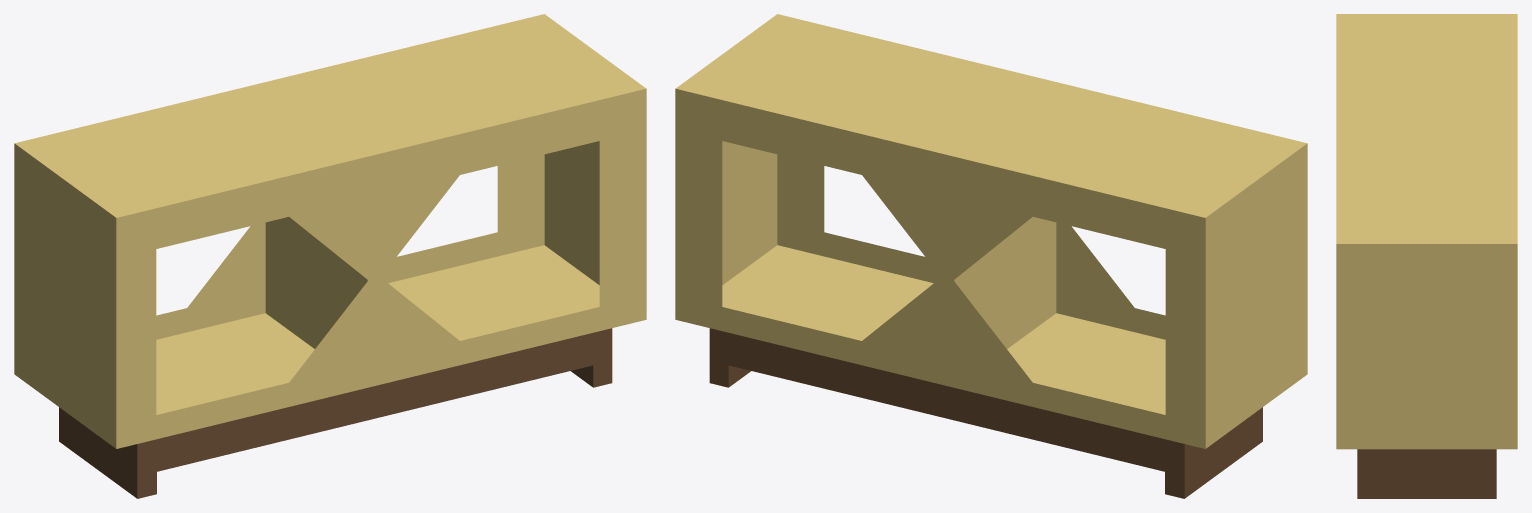
Rendered from TVStand.fbx.
3 views of the same model, side by side, from view 1: azimuth 30°, elevation 25°; view 2: azimuth 150°, elevation 25°; view 3: azimuth 270°, elevation 25° (orthographic). The views are drawn at different scales.
Visible parts, largest first — view 1: Cube; view 2: Cube; view 3: Cube.
Boxes of the visible parts, <box> form: Cube: <box>14,14,646,498</box>; Cube: <box>675,14,1307,498</box>; Cube: <box>1336,14,1517,498</box>.
Bounding box in the file's own units: 504 × 271 × 168.
